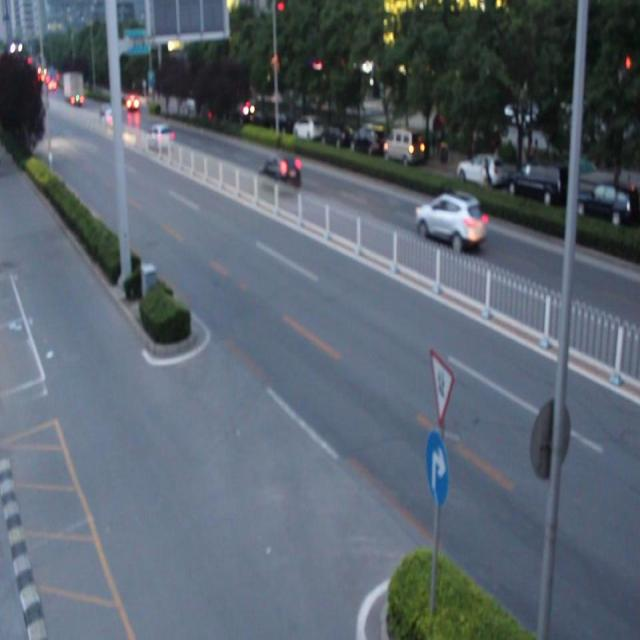car: (413, 188, 485, 252), (257, 153, 302, 195)
